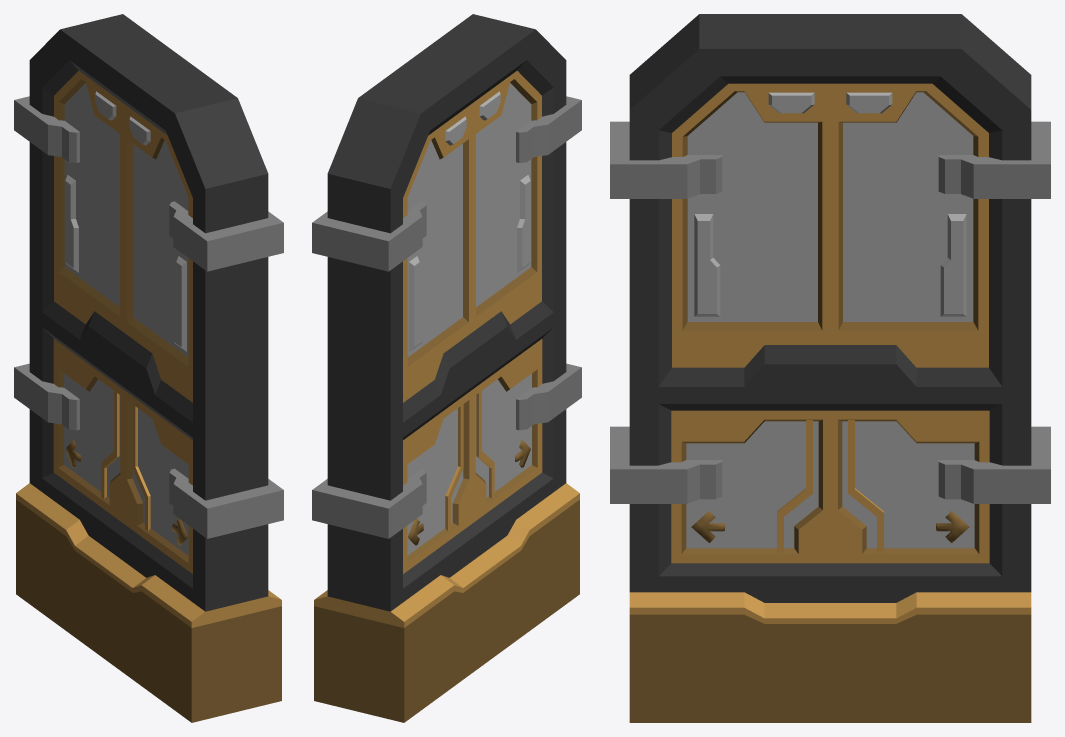
Rendered from Door.gltf.
3 renders of one model, left to right at view 1: azimuth 30°, elevation 25°; view 2: azimuth 150°, elevation 25°; view 3: azimuth 270°, elevation 25°, orthographic. The views are drawn at different scales.
Visible parts, largest first — view 1: Door_Single; view 2: Door_Single; view 3: Door_Single.
Boxes of the visible parts, box(x1,y1,x2,y2) form: Door_Single: box(14, 14, 283, 722); Door_Single: box(312, 14, 581, 722); Door_Single: box(610, 14, 1050, 722).
Size of the model in its own units: 0.4514 by 2.79 by 1.67.
